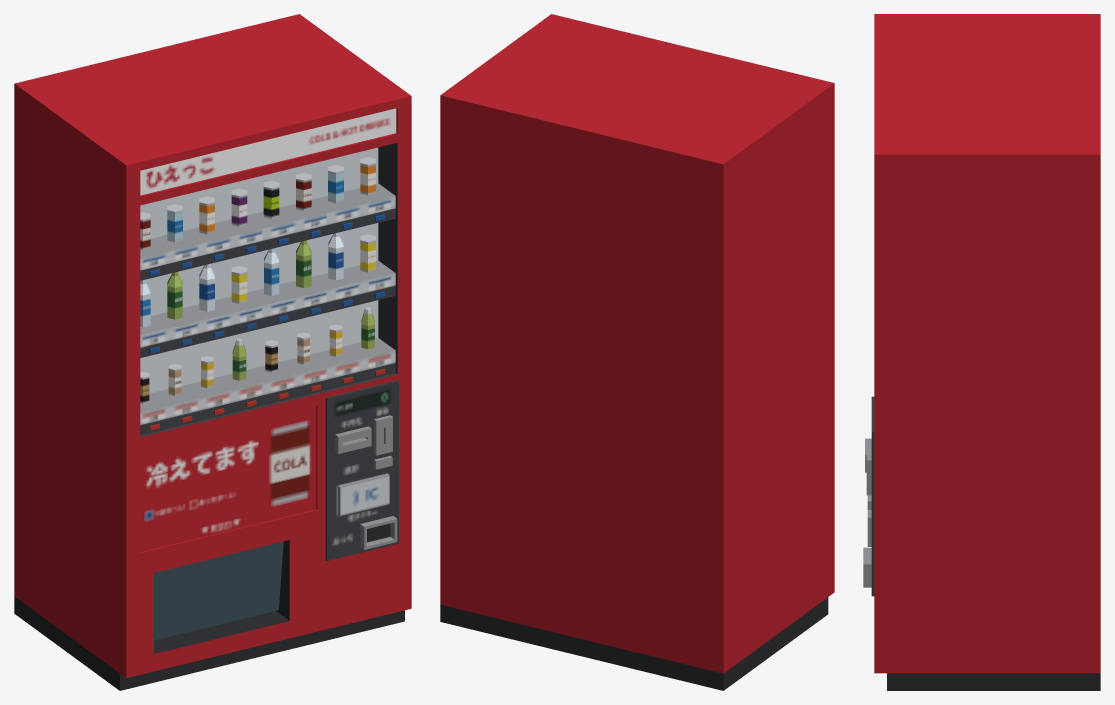
Rendered from SM_Street_Vending_HD_Red_103_01.fbx.
The picture shows the model from 3 angles, left to right: view 1: azimuth 30°, elevation 25°; view 2: azimuth 150°, elevation 25°; view 3: azimuth 270°, elevation 25°; orthographic projection.
Visible parts, largest first — view 1: SM_Street_Vending_HD_Red_103_01; view 2: SM_Street_Vending_HD_Red_103_01; view 3: SM_Street_Vending_HD_Red_103_01.
Part boxes in pixels (x1,y1,x2,y2): SM_Street_Vending_HD_Red_103_01: (14,14,411,690); SM_Street_Vending_HD_Red_103_01: (440,14,834,690); SM_Street_Vending_HD_Red_103_01: (863,14,1100,690).
Size of the model in its own units: 1.03 by 1.83 by 0.733.
Materials: 1 (1 with a texture image).
